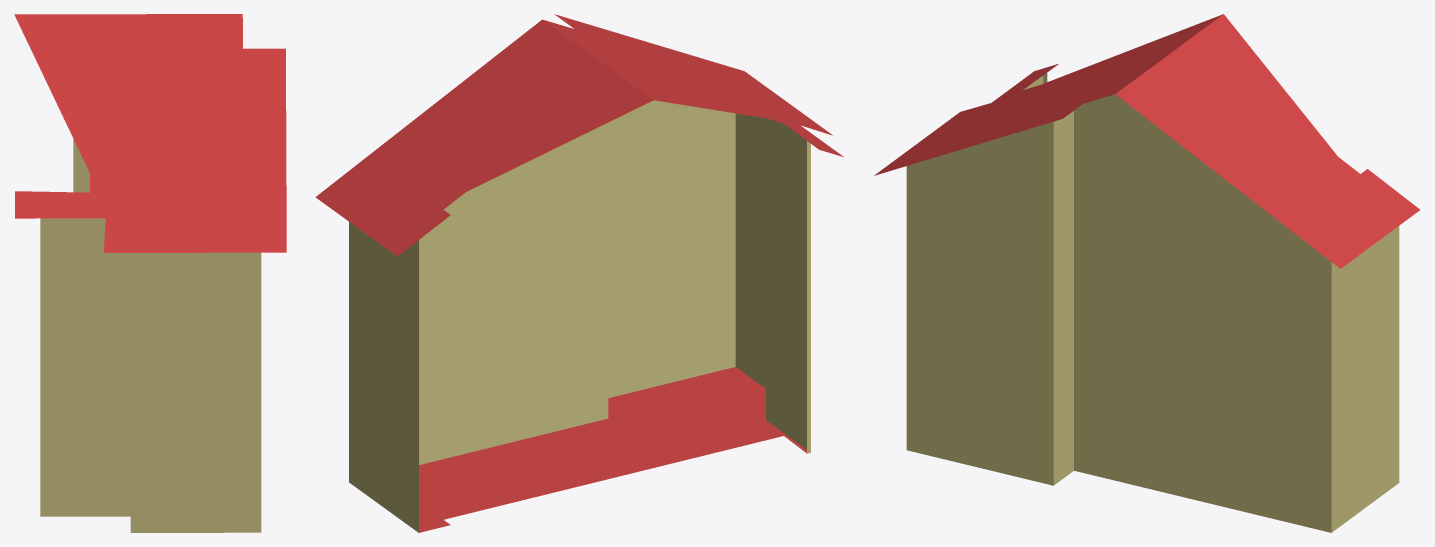
3 renders of one model, left to right at view 1: azimuth 30°, elevation 25°; view 2: azimuth 150°, elevation 25°; view 3: azimuth 270°, elevation 25°, orthographic. The views are drawn at different scales.
Size of the model in its own units: 13.15 by 16.86 by 13.54.
